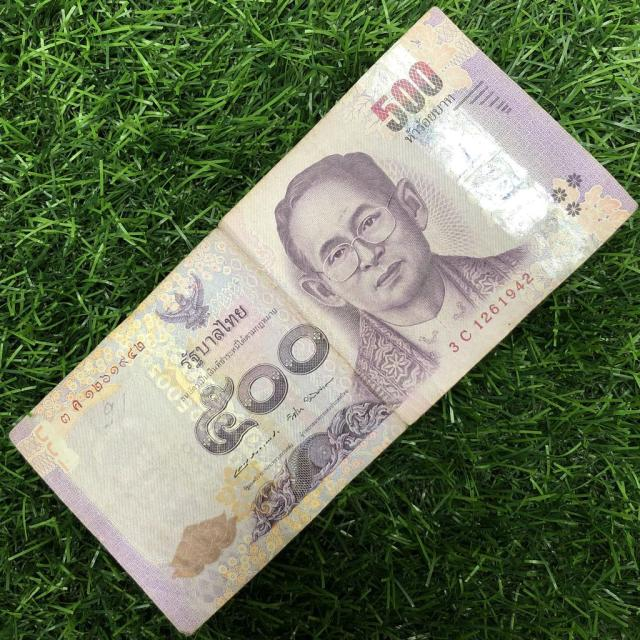THAI500: (10, 9, 636, 633)
